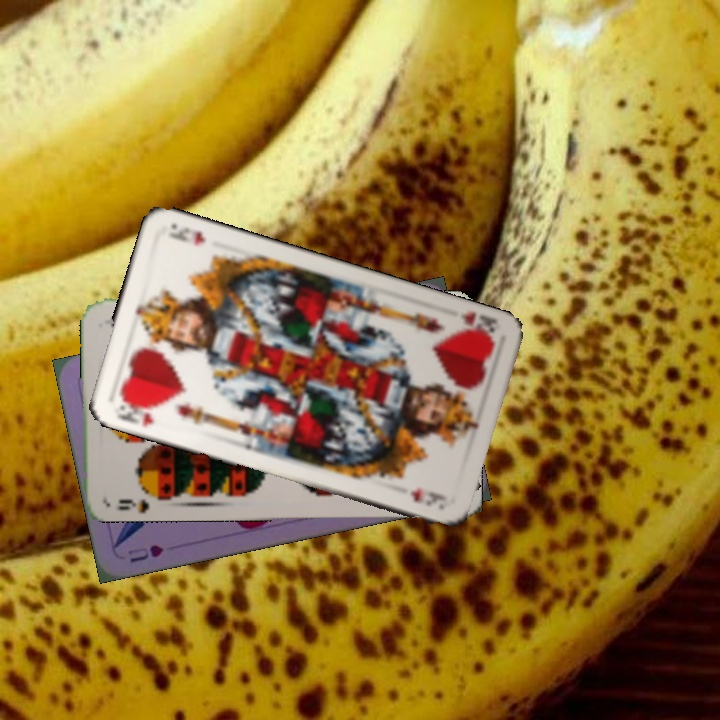HK: (451, 308, 500, 343), (112, 394, 157, 430)
HU: (124, 540, 167, 566)
S9: (113, 495, 152, 513)
